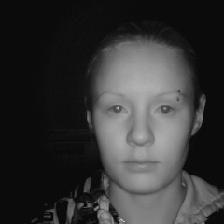normal: (65, 25, 217, 195)
